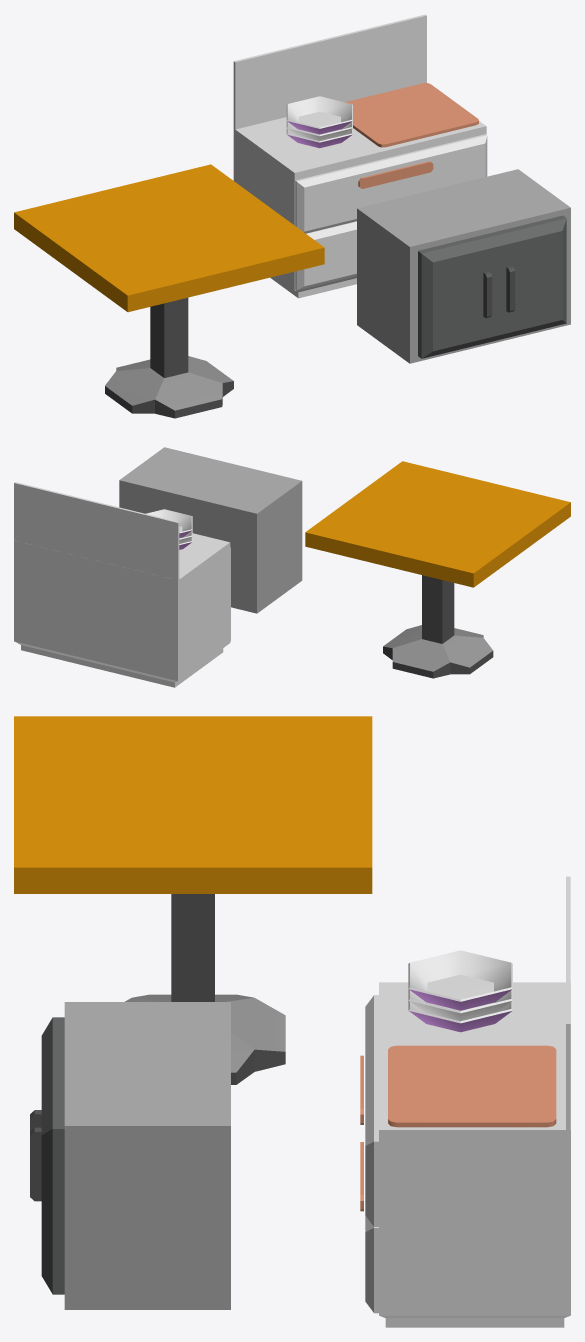
The model's file is Other_Assets.fbx.
3 views of the same model, one above another, from view 1: azimuth 30°, elevation 25°; view 2: azimuth 150°, elevation 25°; view 3: azimuth 270°, elevation 25° (orthographic). The views are drawn at different scales.
Visible parts, largest first — view 1: Pot_Box, Table6, kitchen_Cabnit, Pot3; view 2: Pot_Box, Table6, kitchen_Cabnit, Pot3; view 3: Table6, Pot_Box, kitchen_Cabnit, Pot3, Pot4, Pot5.
Boxes of the visible parts, left/top/right/bottom form: Pot_Box: left=233, top=14, right=487, bottom=298; Table6: left=14, top=164, right=324, bottom=418; kitchen_Cabnit: left=357, top=169, right=570, bottom=363; Pot3: left=286, top=96, right=352, bottom=134; Pot_Box: left=14, top=482, right=230, bottom=687; Table6: left=305, top=461, right=570, bottom=678; kitchen_Cabnit: left=119, top=447, right=302, bottom=613; Pot3: left=146, top=509, right=192, bottom=538; Table6: left=14, top=716, right=372, bottom=1084; Pot_Box: left=360, top=876, right=570, bottom=1327; kitchen_Cabnit: left=30, top=1002, right=230, bottom=1309; Pot3: left=408, top=950, right=512, bottom=1010; Pot4: left=408, top=989, right=512, bottom=1021; Pot5: left=408, top=1001, right=512, bottom=1032.
Bounding box in the file's own units: 7.4 × 2.94 × 4.78.
